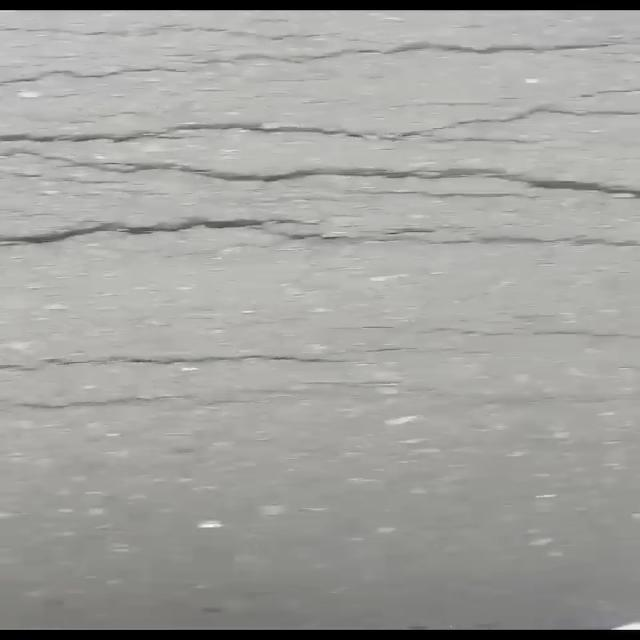Melintang: (0, 141, 640, 221), (0, 19, 640, 98), (0, 201, 640, 262)
